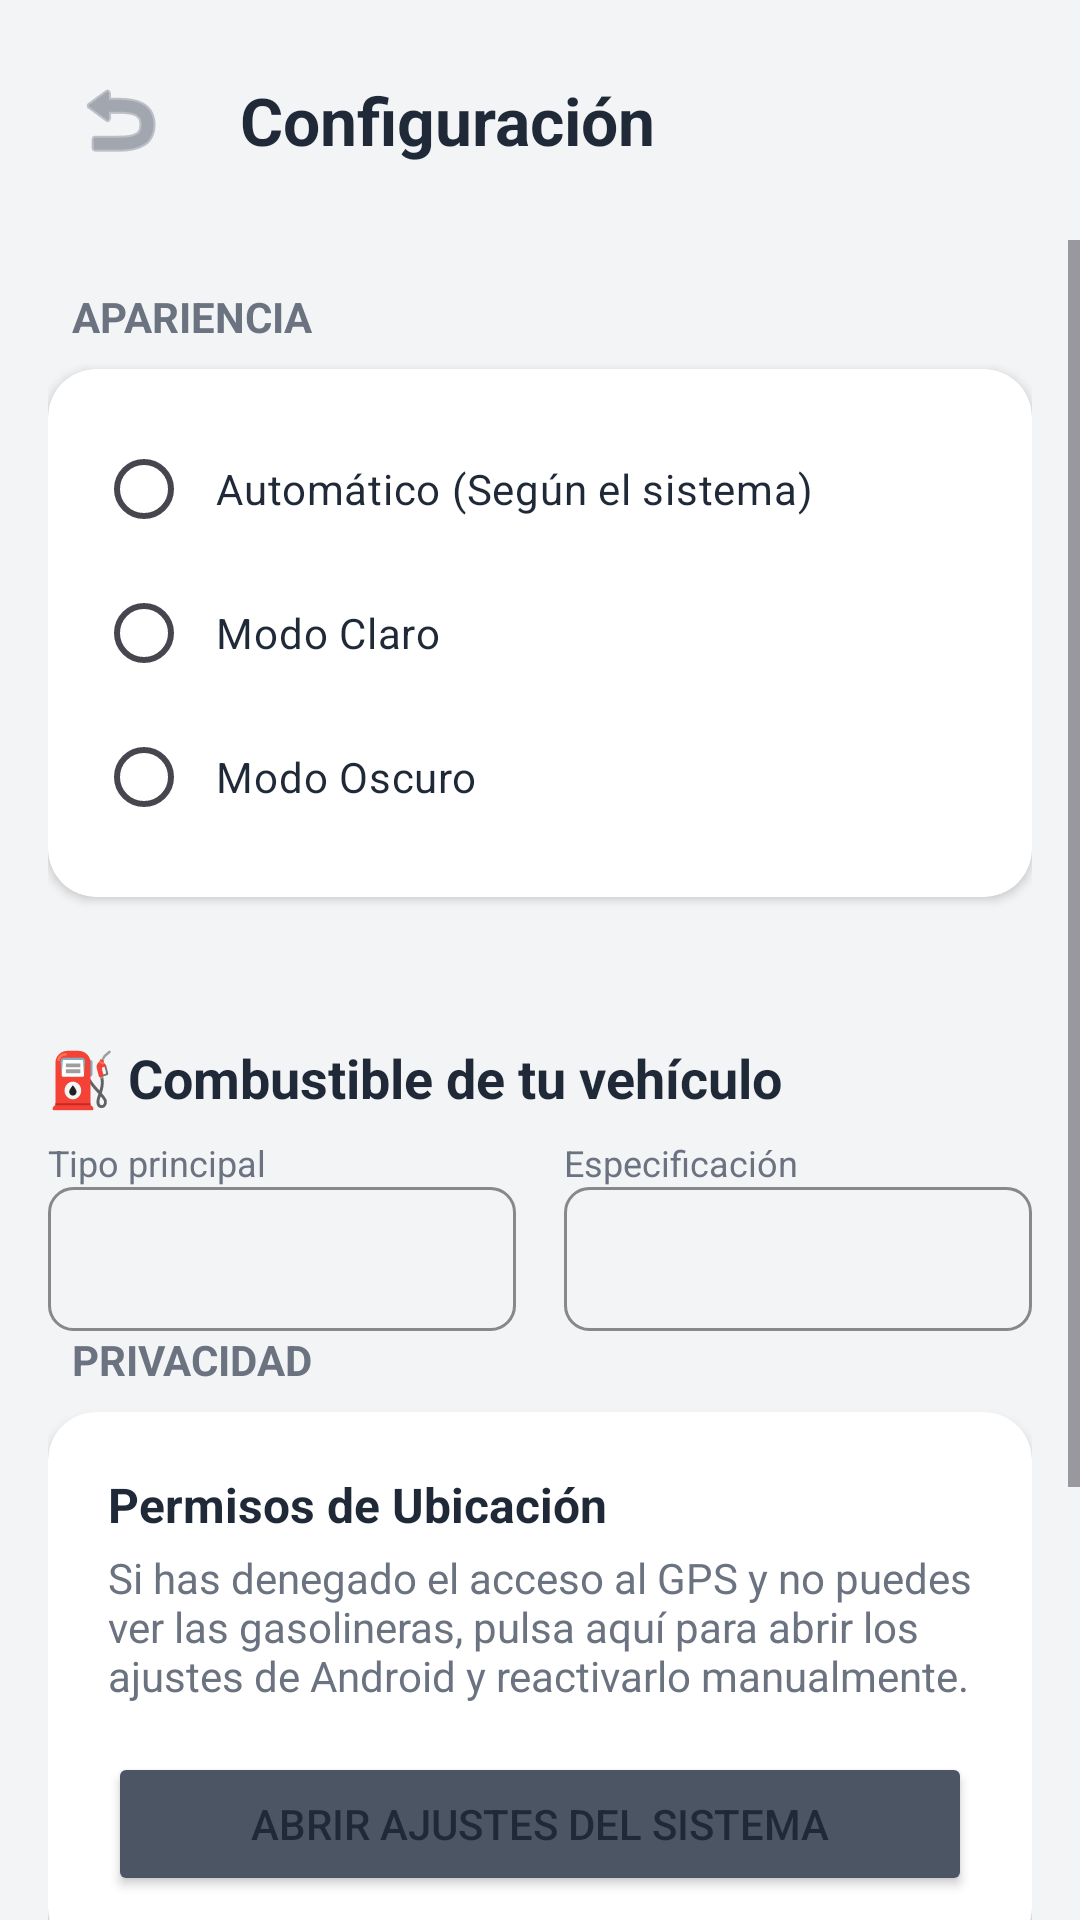

Screen size 1080×1920. Icon name, then its box in pixels as (x1, y1, x2, y2):
Volver: (87, 90, 156, 152)
